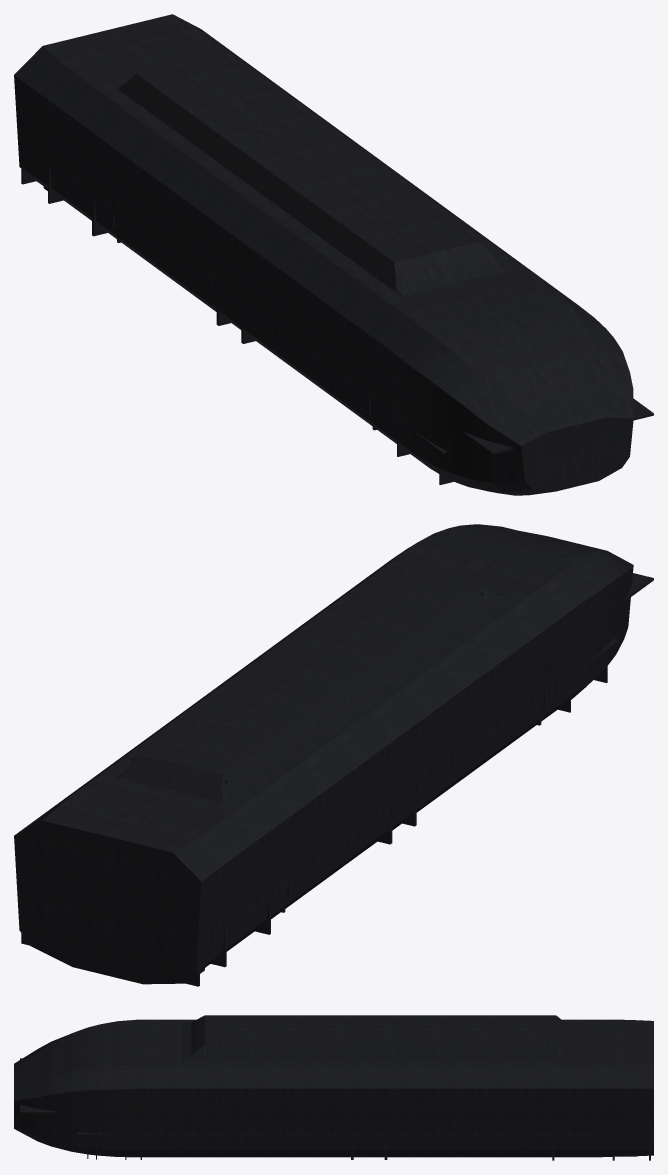
Rendered from Vesper_Explorer_Colliders.fbx.
3 views of the same model, one above another, from view 1: azimuth 30°, elevation 25°; view 2: azimuth 150°, elevation 25°; view 3: azimuth 270°, elevation 25° (orthographic). The views are drawn at different scales.
Parts seen in each view (by area): view 1: COL_Hull, COL_Interior_Structure; view 2: COL_Hull, COL_Interior_Structure; view 3: COL_Hull, COL_Interior_Structure.
Boxes of the visible parts, x1,y1,x2,y2 form: COL_Hull: [14, 14, 633, 495]; COL_Interior_Structure: [21, 28, 653, 484]; COL_Hull: [14, 524, 633, 984]; COL_Interior_Structure: [21, 573, 653, 986]; COL_Hull: [14, 1015, 653, 1157]; COL_Interior_Structure: [20, 1047, 650, 1160].
Size of the model in its own units: 21.99 by 18.8 by 95.5.
1 material, 1 textured.
